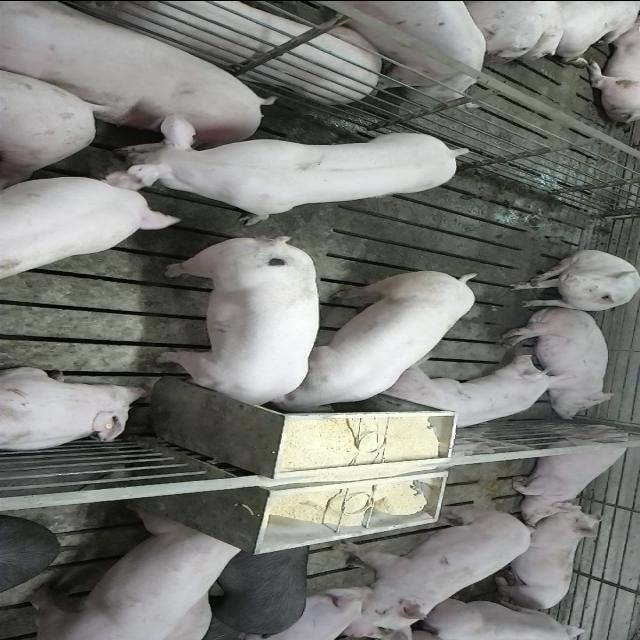Feeding: (272, 264, 479, 412), (156, 231, 322, 408)
Lateral_lying: (0, 4, 273, 155), (498, 307, 616, 417)
Sitting: (504, 424, 636, 518), (506, 250, 638, 312)
Standing: (96, 122, 468, 220), (18, 508, 246, 638), (318, 504, 530, 636), (1, 164, 180, 282), (295, 0, 484, 98), (202, 543, 316, 637)
Sternal_lying: (382, 355, 572, 433), (0, 365, 150, 453), (490, 505, 602, 610)
